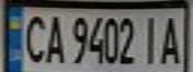0: (103, 14, 121, 65)
2: (118, 14, 139, 65)
4: (87, 12, 106, 65)
9: (66, 12, 90, 65)
A: (157, 12, 187, 66), (42, 11, 69, 65)
C: (18, 11, 48, 64)
I: (139, 12, 163, 65)
